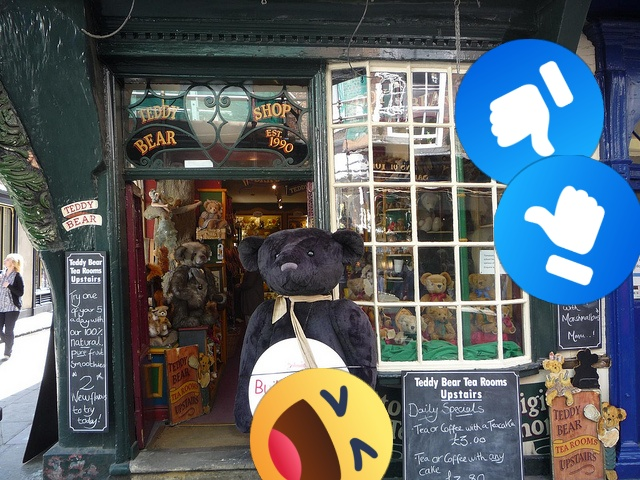haha: (250, 368, 393, 480)
like: (455, 39, 604, 188), (494, 155, 640, 305)
